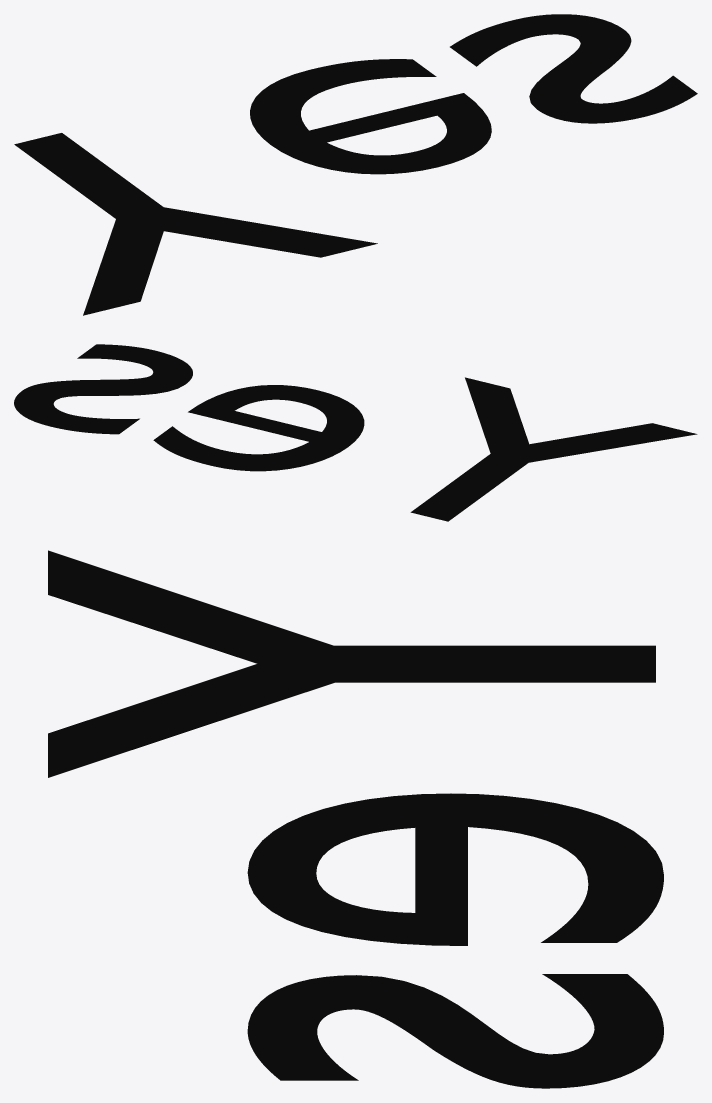
The model's file is yes.obj.
3 renders of one model, top to bottom at view 1: azimuth 30°, elevation 25°; view 2: azimuth 150°, elevation 25°; view 3: azimuth 270°, elevation 25°, orthographic. The views are drawn at different scales.
Parts seen in each view (by area): view 1: Text.001_Mesh.001; view 2: Text.001_Mesh.001; view 3: Text.001_Mesh.001.
Boxes of the visible parts, <box> form: Text.001_Mesh.001: <box>14,14,697,315</box>; Text.001_Mesh.001: <box>14,344,697,521</box>; Text.001_Mesh.001: <box>48,550,663,1088</box>.
Bounding box in the file's own units: 1.43 × 0 × 0.691.
